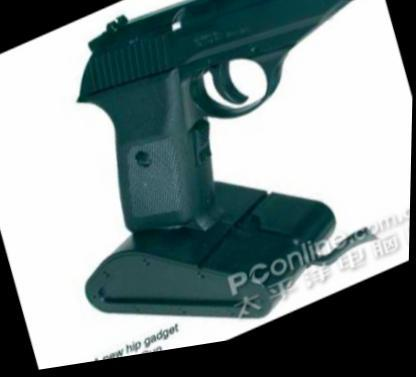pistol: (54, 0, 415, 272)
